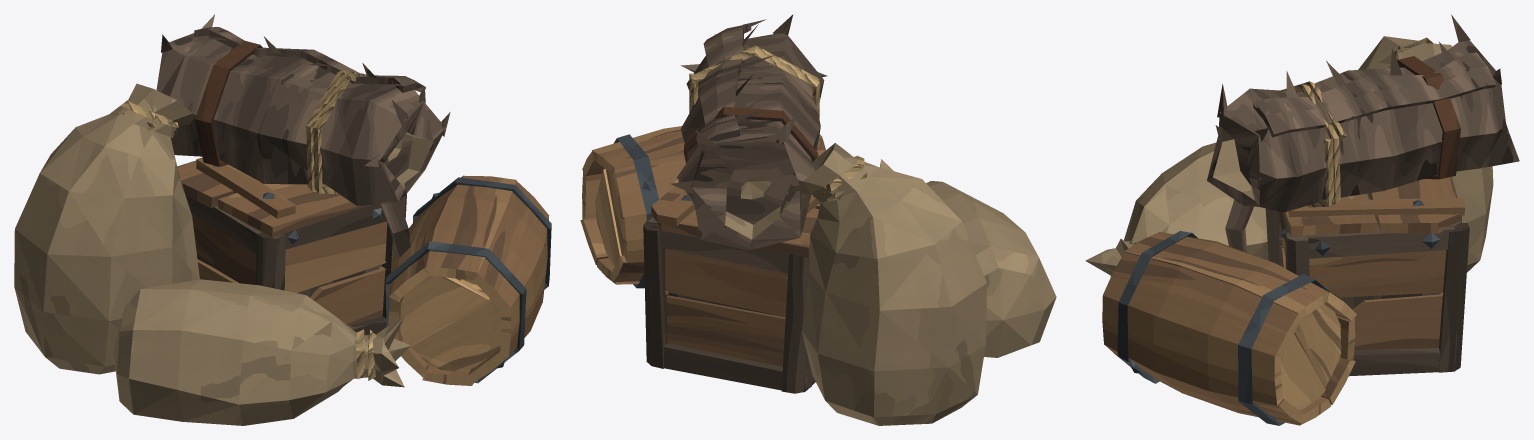
Rendered from SM_SupplyPile.fbx.
3 views of the same model, side by side, from view 1: azimuth 30°, elevation 25°; view 2: azimuth 150°, elevation 25°; view 3: azimuth 270°, elevation 25° (orthographic).
Visible parts, largest first — view 1: SM_SupplyPile; view 2: SM_SupplyPile; view 3: SM_SupplyPile.
Boxes of the visible parts, box(x1,y1,x2,y2) form: SM_SupplyPile: box(14, 14, 551, 425); SM_SupplyPile: box(580, 14, 1056, 425); SM_SupplyPile: box(1085, 14, 1519, 425).
Size of the model in its own units: 1.18 by 0.7054 by 0.9678.
